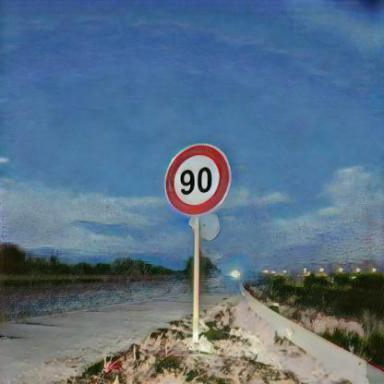Speed_limit_90: (166, 146, 229, 215)
